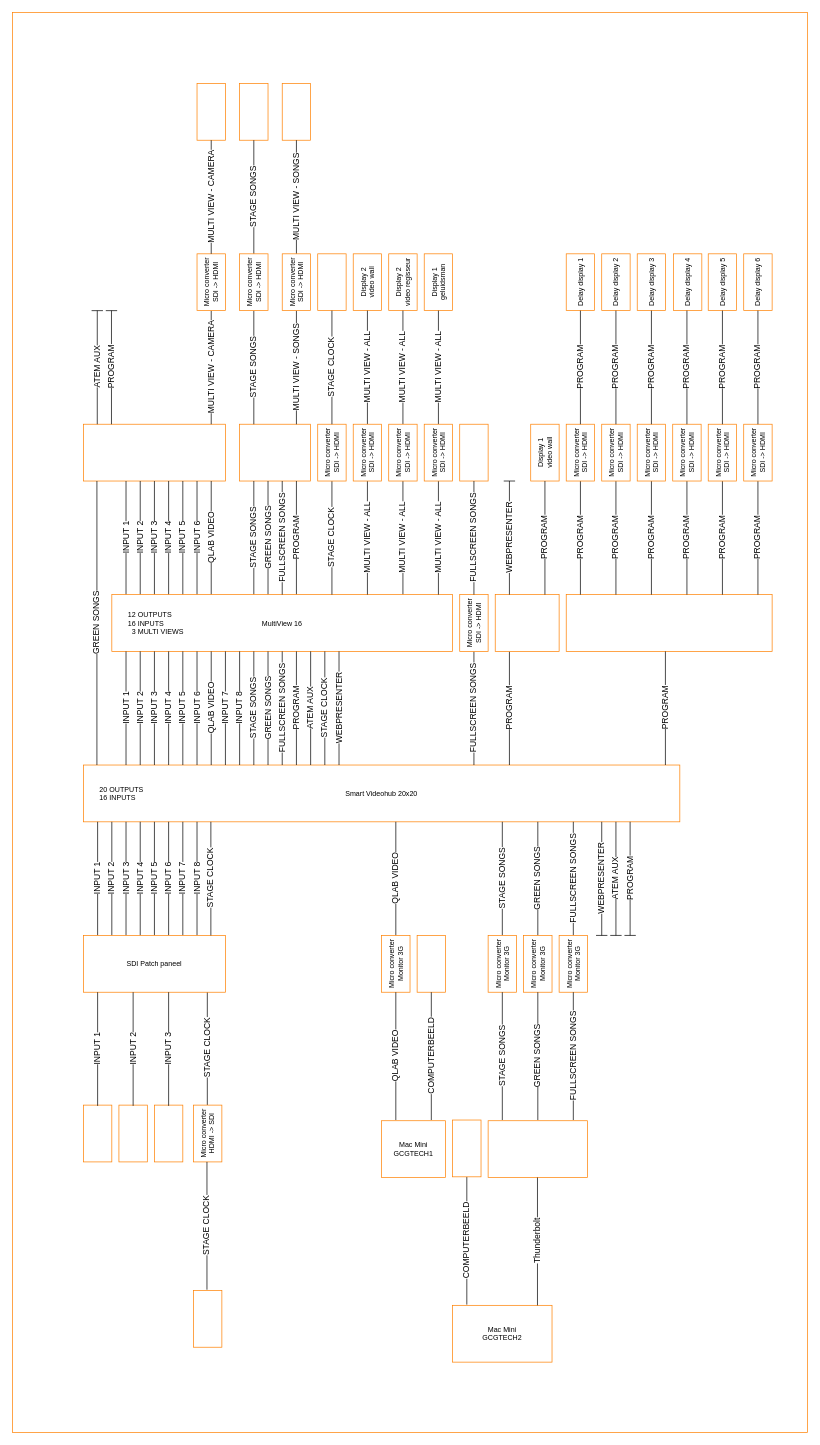
Some shapes in this 820 by 1445 pixel diagram are drawn without their labels. Here are the shapes that lost their labels. From the top down, the centre of each, then its label:
the point at 210,111: Display 1 video regisseur
the point at 253,111: Stage display 1
the point at 296,111: Display 2 liedteksten
the point at 331,282: Stage display 2
the point at 154,452: ATEM Television Studio HD
the point at 275,452: MultiView 4
the point at 473,452: Beamer
the point at 527,622: Webpresenter HD
the point at 669,622: Mini converter SDI Distribution
the point at 431,963: Display 3 video regisseur
the point at 97,1133: Overview Camera 1
the point at 132,1133: Camera 2
the point at 168,1133: Camera 3
the point at 466,1148: Display 1 liedteksten
the point at 537,1149: Thunderbolt hub
the point at 207,1318: MacBook
